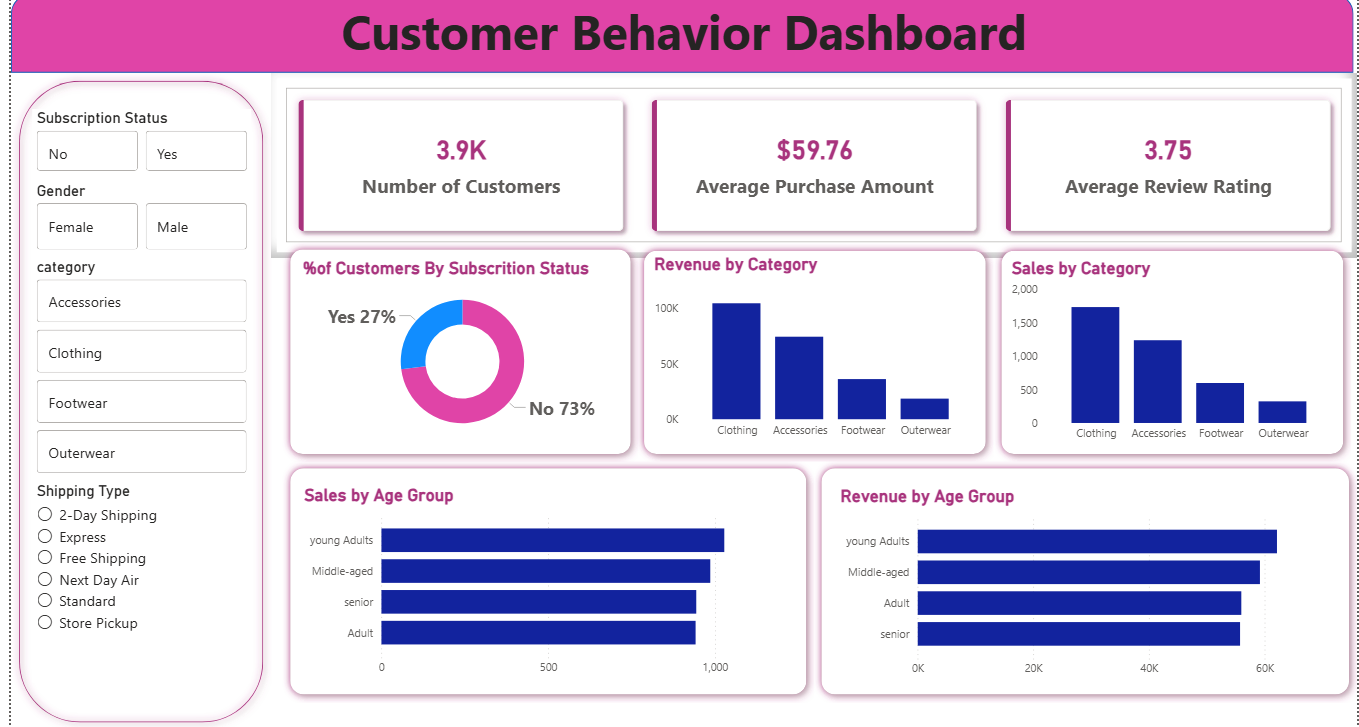

The page's visual inventory and layout, read from the dashboard file:
{"tool":"powerbi","page":{"name":"Page 1","canvas":[1500,820],"ordinal":0},"visuals":[{"type":"cardVisual","fields":{"Data":["public customer.Number of Customers","public customer.Average Purchase Amount","public customer.Average Review Rating"]},"box":[289.7,87.7,1210.2,206.1],"z":0},{"type":"shape","box":[0,0,1495.7,87.7],"z":1000},{"type":"textbox","box":[0,0,1499.9,87.7],"z":2000},{"type":"shape","box":[302.9,275.7,397.1,245.7],"z":3000},{"type":"donutChart","title":"%of  Customers By Subscrition Status","fields":{"Category":["public customer.subscription_status"],"Y":["CountNonNull(public customer.customer_id)"]},"box":[320,294.3,365.7,210],"z":4000},{"type":"shape","box":[695.7,277.1,398.6,244.3],"z":5000},{"type":"shape","box":[1094.3,277.1,398.6,244.3],"z":6000},{"type":"clusteredColumnChart","title":"Revenue by Category ","fields":{"Y":["Sum(public customer.purchase_amount)"],"Category":["public customer.category"]},"box":[711.4,290,368.6,214.3],"z":7000},{"type":"clusteredColumnChart","title":"Sales by Category ","fields":{"Category":["public customer.category"],"Y":["CountNonNull(public customer.customer_id)"]},"box":[1110,294.3,368.6,214.3],"z":8000},{"type":"shape","box":[0,87.1,290,732.9],"z":9000},{"type":"advancedSlicerVisual","fields":{"Values":["public customer.subscription_status"]},"box":[24.3,128.6,244.3,74.3],"z":10000},{"type":"advancedSlicerVisual","fields":{"Values":["public customer.gender"]},"box":[24.3,208.6,244.3,81.4],"z":11000},{"type":"advancedSlicerVisual","fields":{"Values":["public customer.category"]},"box":[24.3,294.3,244.3,248.6],"z":12000},{"type":"listSlicer","fields":{"Values":["public customer.shipping_type"]},"box":[24.3,542.9,244.3,224.3],"z":13000},{"type":"shape","box":[302.9,520,592.9,270],"z":14000},{"type":"clusteredBarChart","title":"Sales by Age Group","fields":{"Y":["CountNonNull(public customer.customer_id)"],"Category":["public customer.age_group"]},"box":[321.4,547.1,557.1,221.4],"z":15000},{"type":"shape","box":[894.3,520,605.7,270],"z":16000},{"type":"clusteredBarChart","title":"Revenue by Age Group","fields":{"Y":["Sum(public customer.purchase_amount)"],"Category":["public customer.age_group"]},"box":[918.6,548.6,557.1,221.4],"z":17000}]}

Visuals, with their boxes in screenshot pixels (x1, y1, x2, y2), scaled from the page's 1500x820 canvas onto the 1359x727 screenshot:
cardVisual - public customer.Number of Customers x public customer.Average Purchase Amount: <box>262,78,1358,260</box>
shape: <box>0,0,1355,78</box>
textbox: <box>0,0,1358,78</box>
shape: <box>274,244,634,462</box>
"%of  Customers By Subscrition Status" donutChart: <box>290,261,621,447</box>
shape: <box>630,246,991,462</box>
shape: <box>991,246,1353,462</box>
"Revenue by Category " clusteredColumnChart: <box>645,257,978,447</box>
"Sales by Category " clusteredColumnChart: <box>1006,261,1340,451</box>
shape: <box>0,77,263,726</box>
advancedSlicerVisual - public customer.subscription_status: <box>22,114,243,180</box>
advancedSlicerVisual - public customer.gender: <box>22,185,243,257</box>
advancedSlicerVisual - public customer.category: <box>22,261,243,481</box>
listSlicer - public customer.shipping_type: <box>22,481,243,680</box>
shape: <box>274,461,812,700</box>
"Sales by Age Group" clusteredBarChart: <box>291,485,796,681</box>
shape: <box>810,461,1358,700</box>
"Revenue by Age Group" clusteredBarChart: <box>832,486,1337,683</box>
